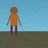person: (7, 7, 21, 36)
